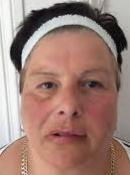normalEye: (28, 66, 110, 97)
